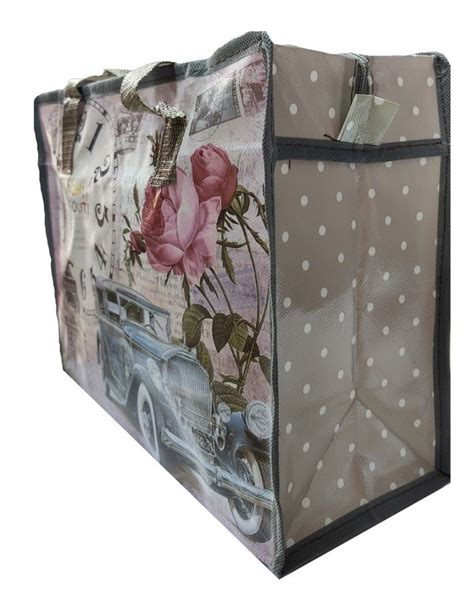nylon: (32, 31, 451, 578)
